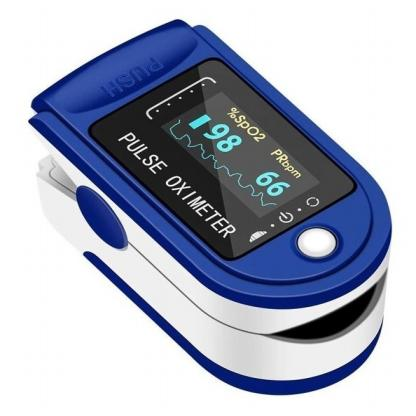Displays: (162, 92, 320, 219)
